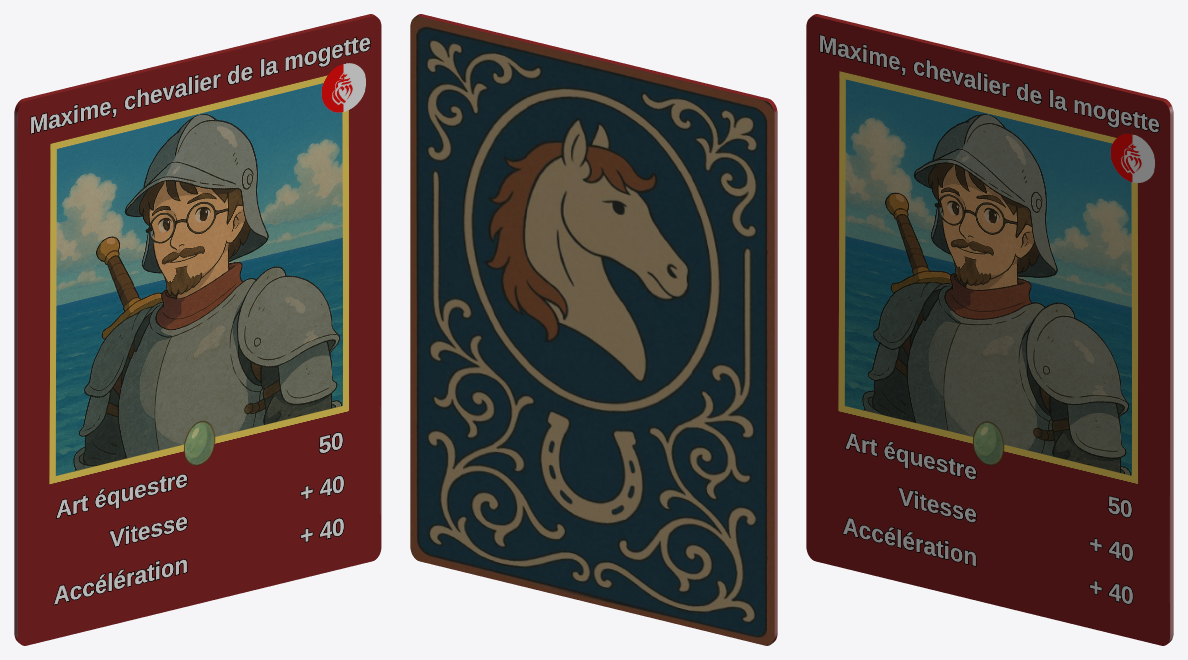
File: Maxime.glb
3 renders of one model, left to right at view 1: azimuth 30°, elevation 25°; view 2: azimuth 150°, elevation 25°; view 3: azimuth 330°, elevation 25°, orthographic.
Parts seen in each view (by area): view 1: Plane; view 2: Plane; view 3: Plane.
Part boxes in pixels (<box>): Plane: <box>14,14,381,645</box>; Plane: <box>410,14,777,645</box>; Plane: <box>806,14,1173,645</box>.
Bounding box in the file's own units: 3.5 × 5 × 0.05.
Materials: 2 (2 with a texture image).
